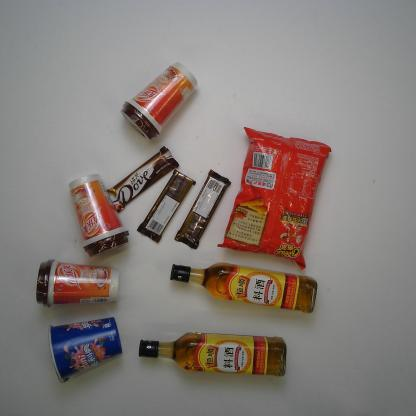Chocolate: (104, 144, 180, 213), (173, 169, 232, 252), (137, 166, 197, 245)
Dessert: (45, 316, 123, 385)
Instant Drink: (120, 60, 199, 142), (67, 171, 129, 260), (34, 255, 122, 312)
Puffed Food: (214, 126, 333, 274)
Seasoner: (167, 261, 319, 315), (136, 330, 288, 380)
